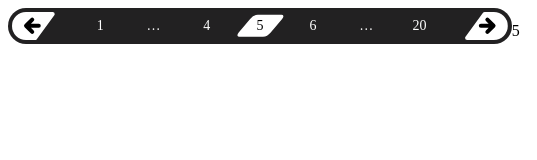
Pagination › is controllable
The image size is (537, 160).
Click the button named "Next page": (485, 26) 463,12 -> 508,40
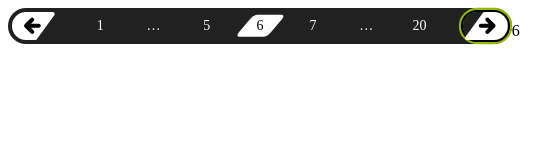
Now the 2nd text "6" is shown, box 512,22 -> 520,39
